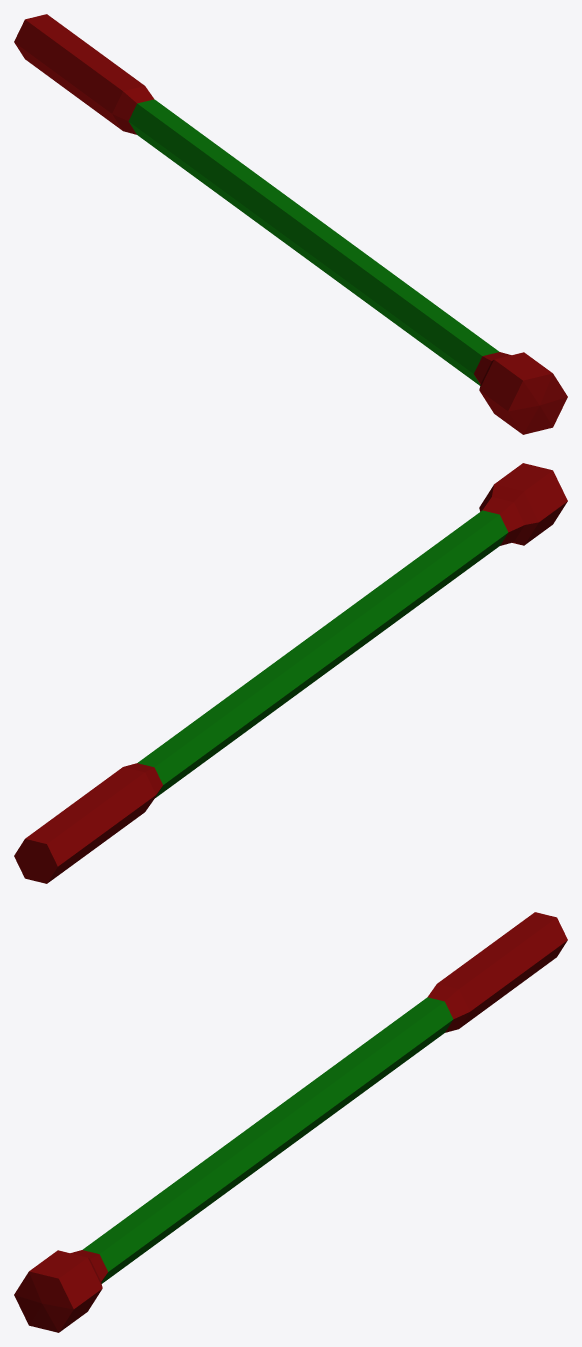
File: Artilarry.fbx
3 renders of one model, top to bottom at view 1: azimuth 30°, elevation 25°; view 2: azimuth 150°, elevation 25°; view 3: azimuth 330°, elevation 25°, orthographic.
Visible parts, largest first — view 1: ArtillaryLaser; view 2: ArtillaryLaser; view 3: ArtillaryLaser.
Part boxes in pixels (x1,y1,x2,y2): ArtillaryLaser: (14, 14, 567, 434); ArtillaryLaser: (14, 463, 567, 883); ArtillaryLaser: (14, 912, 567, 1332).
Size of the model in its own units: 0.1284 by 0.1113 by 1.87.
